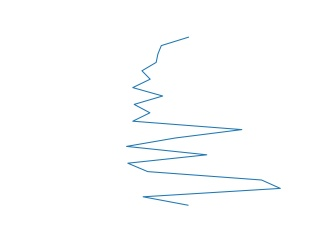crevasseRiverBedLagDeposit: (121, 34, 285, 209)
